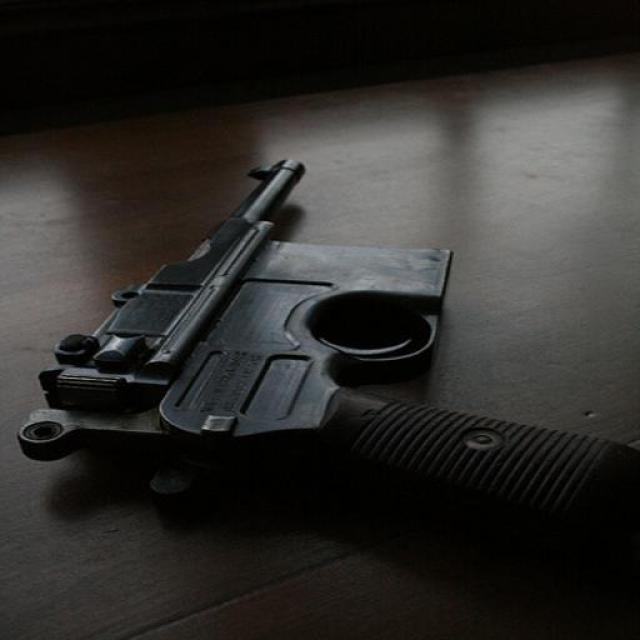pistol: (24, 152, 640, 565)
